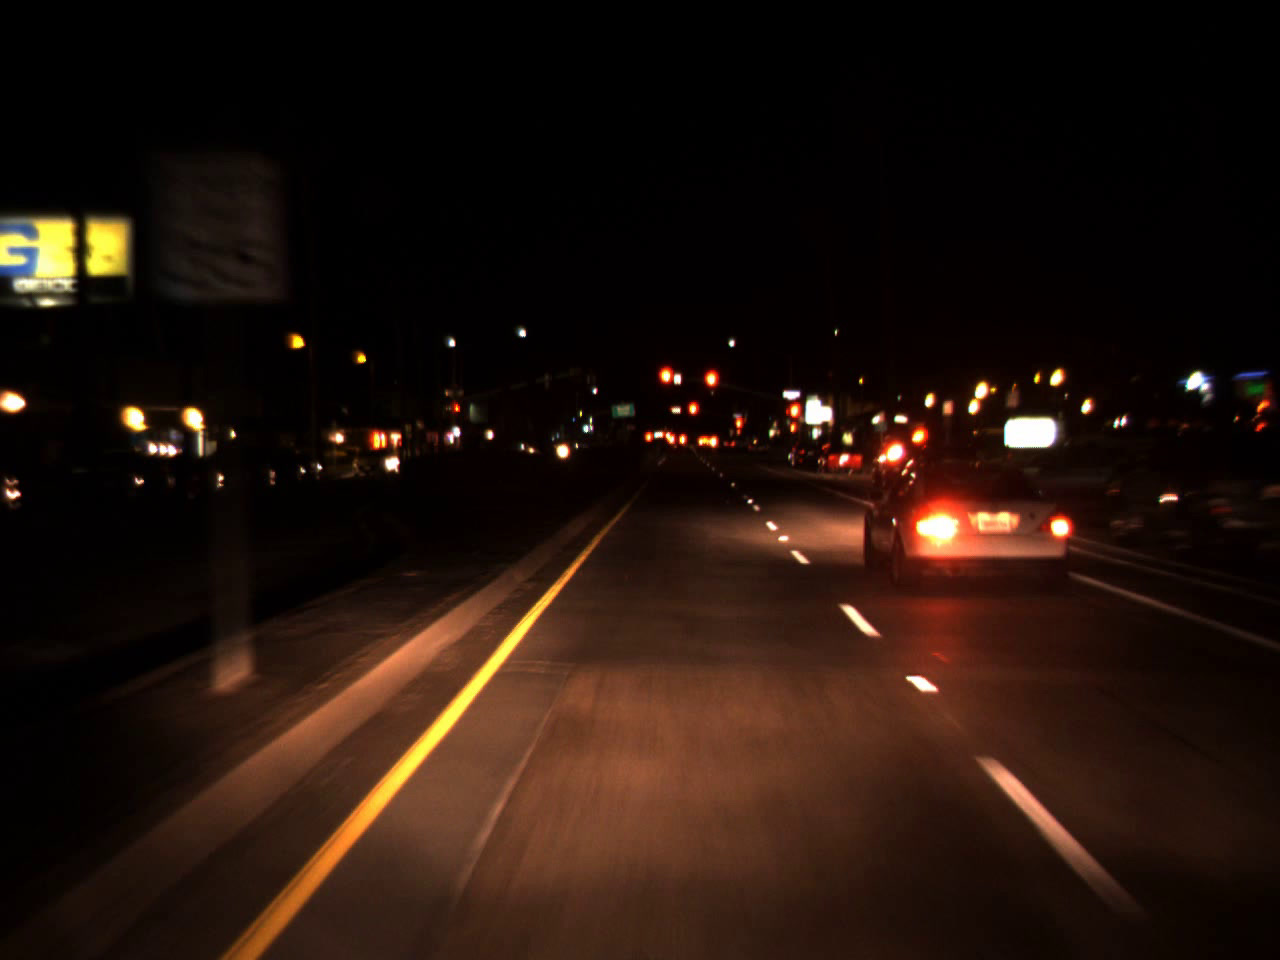stop: (656, 364, 677, 404), (701, 367, 720, 407), (787, 400, 802, 437), (687, 400, 699, 429), (734, 413, 743, 445), (452, 402, 461, 423)
